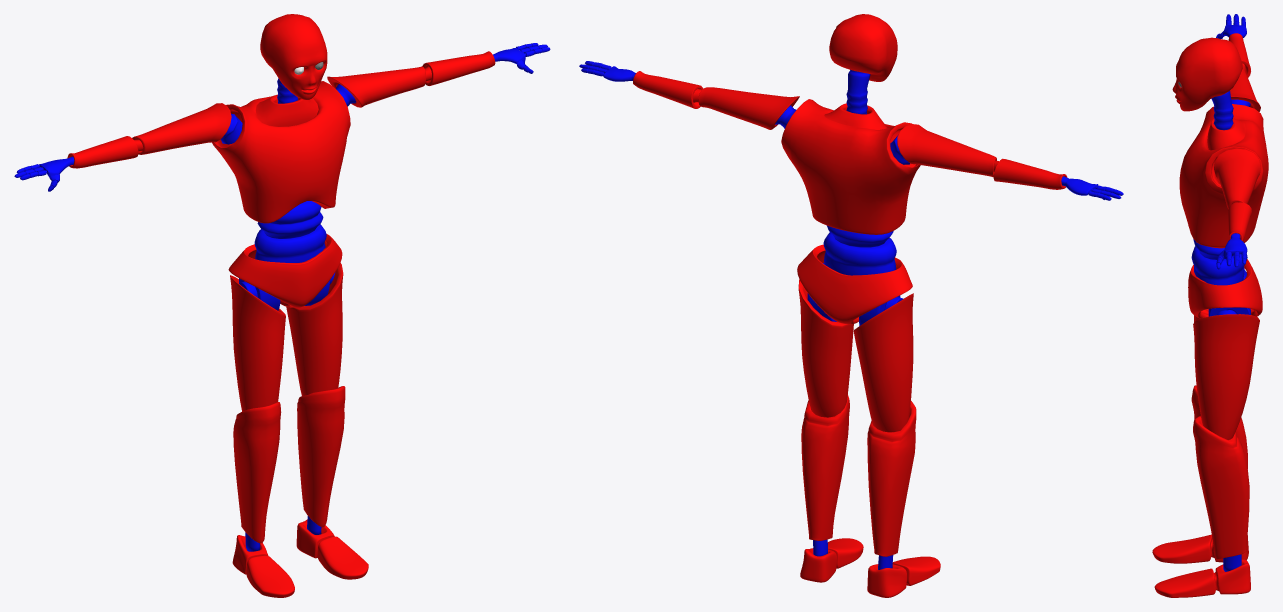
Rendered from enemy_character.obj.
3 renders of one model, left to right at view 1: azimuth 30°, elevation 25°; view 2: azimuth 150°, elevation 25°; view 3: azimuth 270°, elevation 25°, orthographic. The views are drawn at different scales.
Visible parts, largest first — view 1: robot_enemy; view 2: robot_enemy; view 3: robot_enemy.
Boxes of the visible parts, bbox=[...] form: robot_enemy: bbox=[14, 14, 550, 597]; robot_enemy: bbox=[579, 14, 1123, 597]; robot_enemy: bbox=[1152, 14, 1268, 597].
Bounding box in the file's own units: 3.68 × 3.63 × 0.7157.
